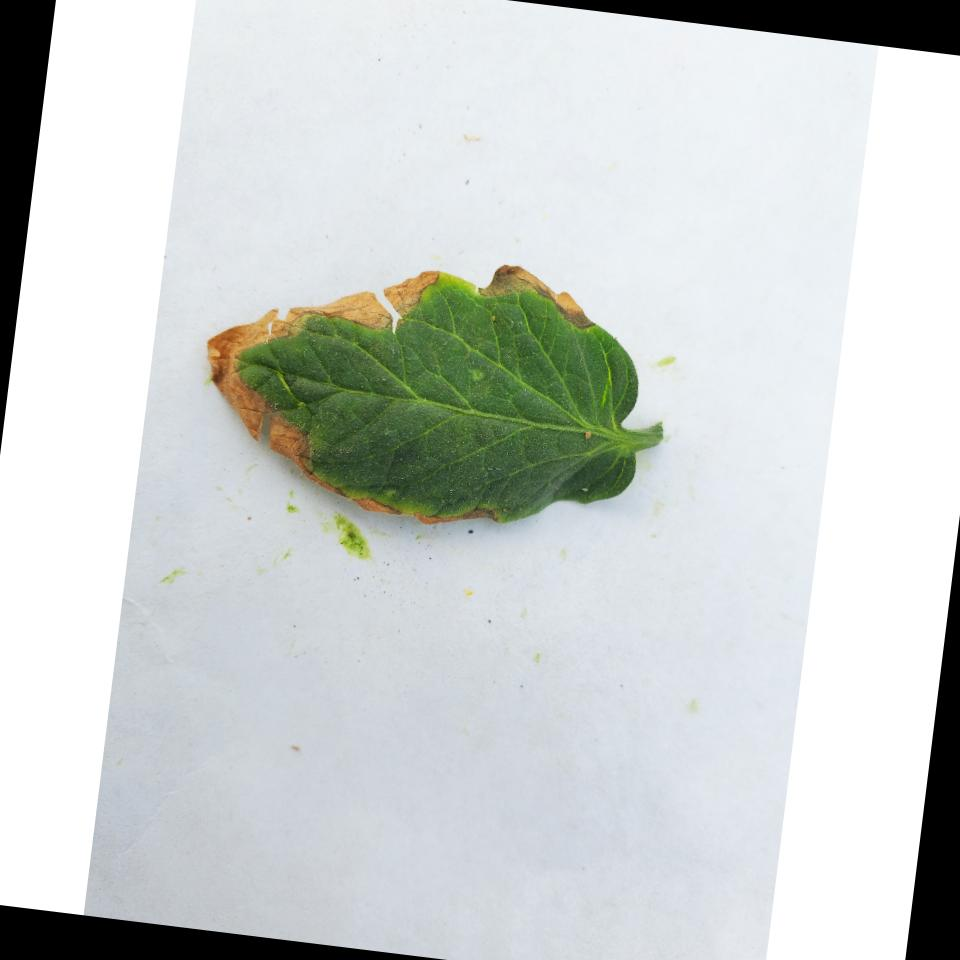tomato_bacterial_blight: (172, 225, 689, 547)
